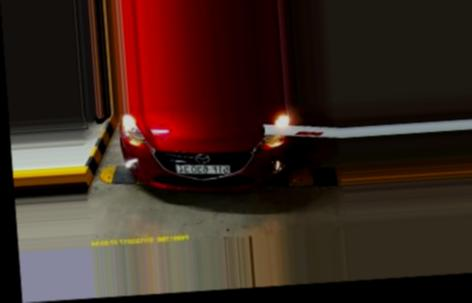License_Plate: (174, 161, 233, 178)
